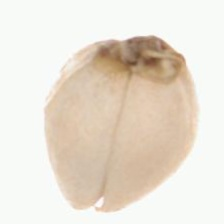L1: (93, 30, 182, 81), (62, 194, 118, 215)
L2: (42, 33, 199, 212)
